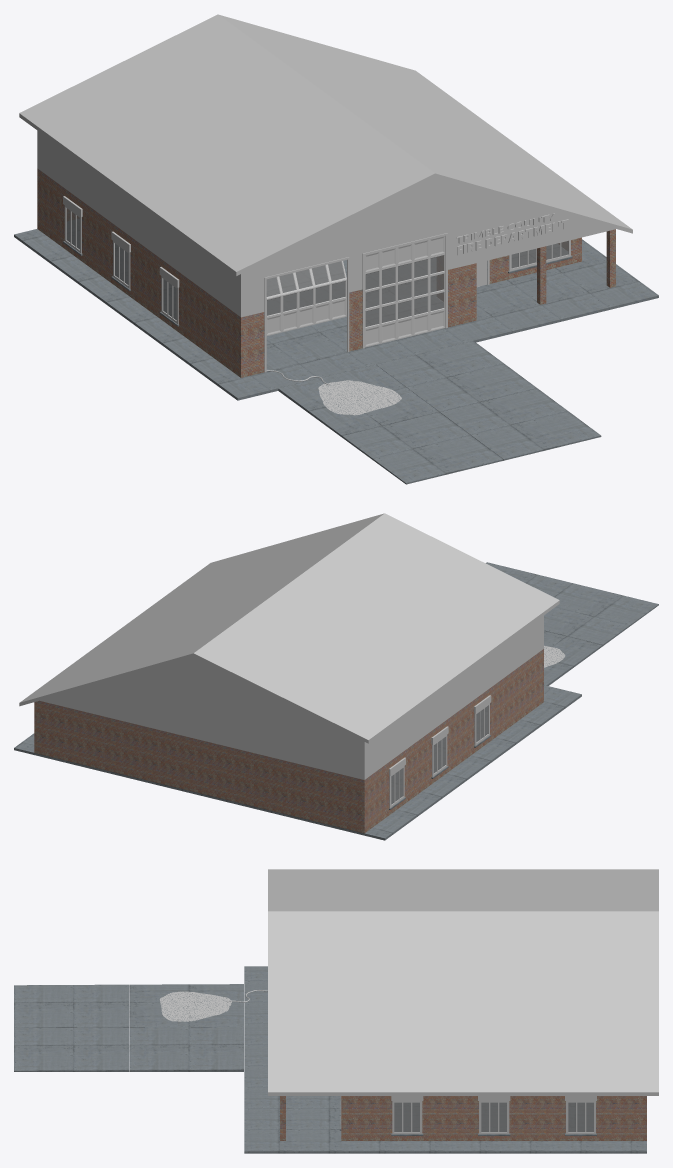
Rendered from FireDep009.dae.
3 views of the same model, one above another, from view 1: azimuth 30°, elevation 25°; view 2: azimuth 150°, elevation 25°; view 3: azimuth 270°, elevation 25° (orthographic). The views are drawn at different scales.
Visible parts, largest first — view 1: group_1 (×7), SketchUp (×5), instance_10, instance_9; view 2: group_1 (×6), SketchUp (×3); view 3: group_1 (×5), SketchUp (×5), instance_11, instance_14, instance_15.
Boxes of the visible parts, x1,y1,x2,y2 form: group_1 (×7): (14,14,658,400); SketchUp (×5): (278,341,601,484); instance_10: (264,257,349,372); instance_9: (362,233,447,348); group_1 (×6): (14,513,581,840); SketchUp (×3): (486,562,658,685); group_1 (×5): (244,869,658,1153); SketchUp (×5): (14,984,243,1071); instance_11: (394,1102,419,1131); instance_14: (481,1102,506,1131); instance_15: (568,1102,593,1131).
Size of the model in its own units: 872 by 1285 by 329.
